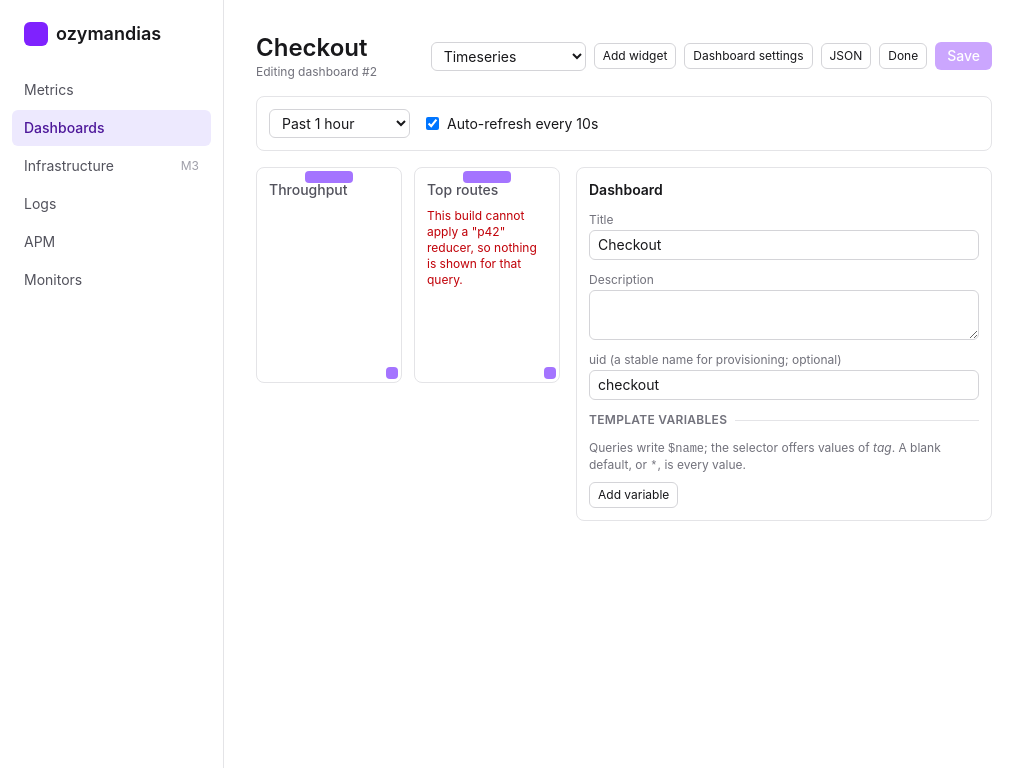
Test case: saving › PUTs the definition without the database's fields, and says it saved
Expected: the heading "Checkout" is shown, [256,32,377,64]
Clear the field labelled "Title" at [784, 245], box [589,230,979,260]
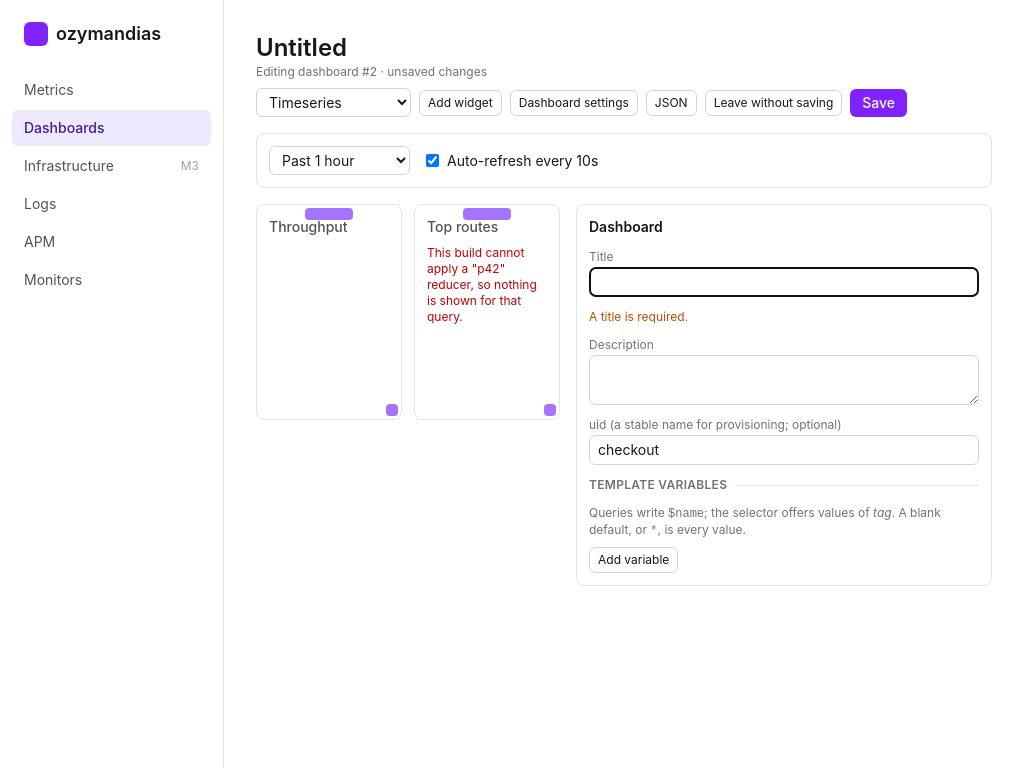
Type "Checkout v2" into the field labelled "Title".
click(784, 282); type("Checkout v2")  # box [589,267,979,297]
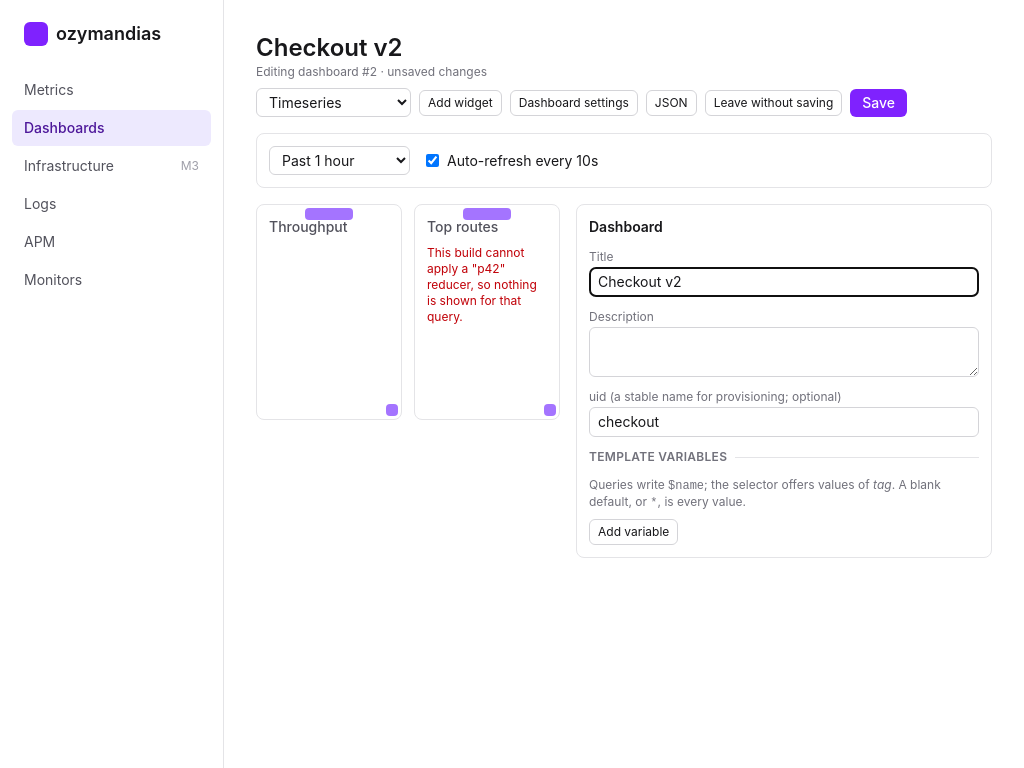
Result: the text "Editing dashboard #2 · unsaved changes" is shown at [256,64,487,80]
Click the button "Save".
click(879, 102)  # box [850,88,907,116]
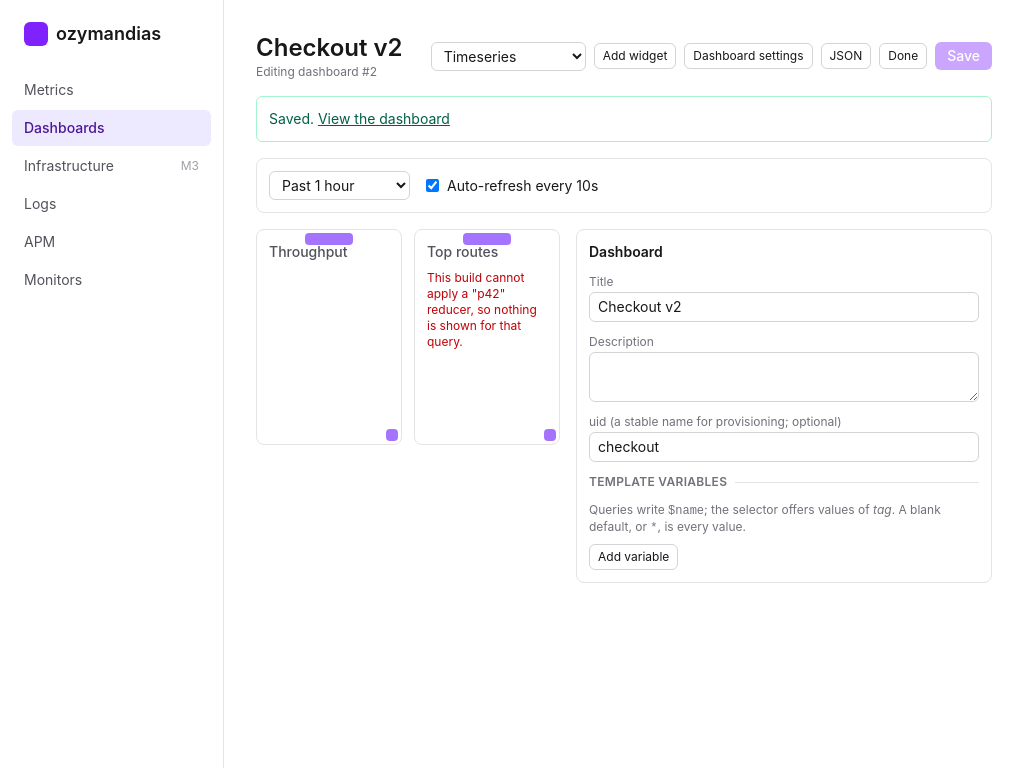
Result: the text "Saved." is shown at [269,110,314,127]
Result: the text "unsaved changes" is gone
